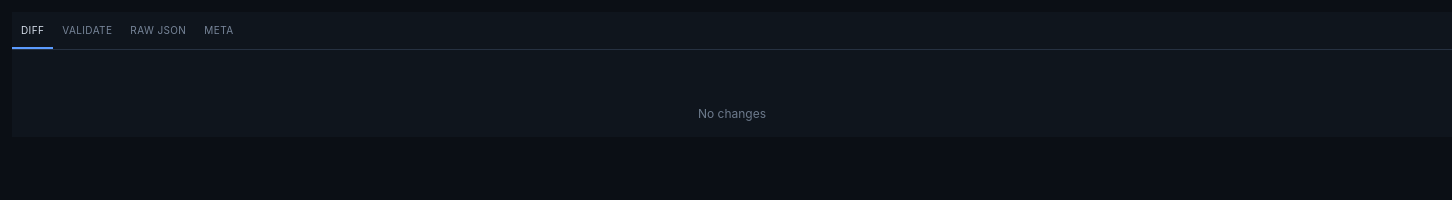
Validation display shows issues
Click the button "Validate" at [87, 30], box [53,12,121,49]
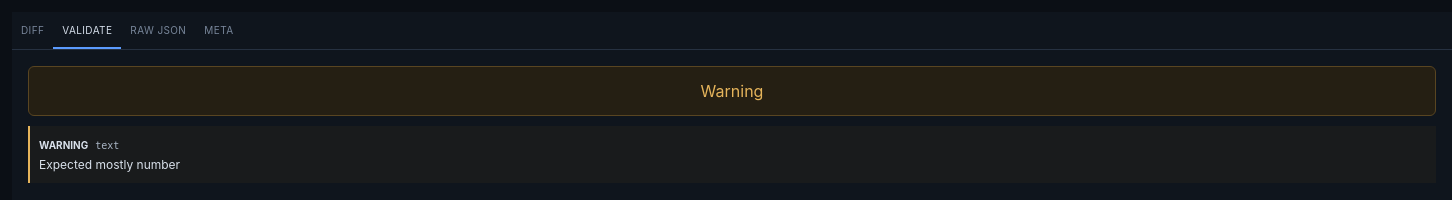
Now the element with test id "validation-panel" shows "Expected mostly number", box [39,157,180,172]
